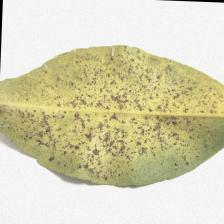canker: (47, 80, 173, 148)
